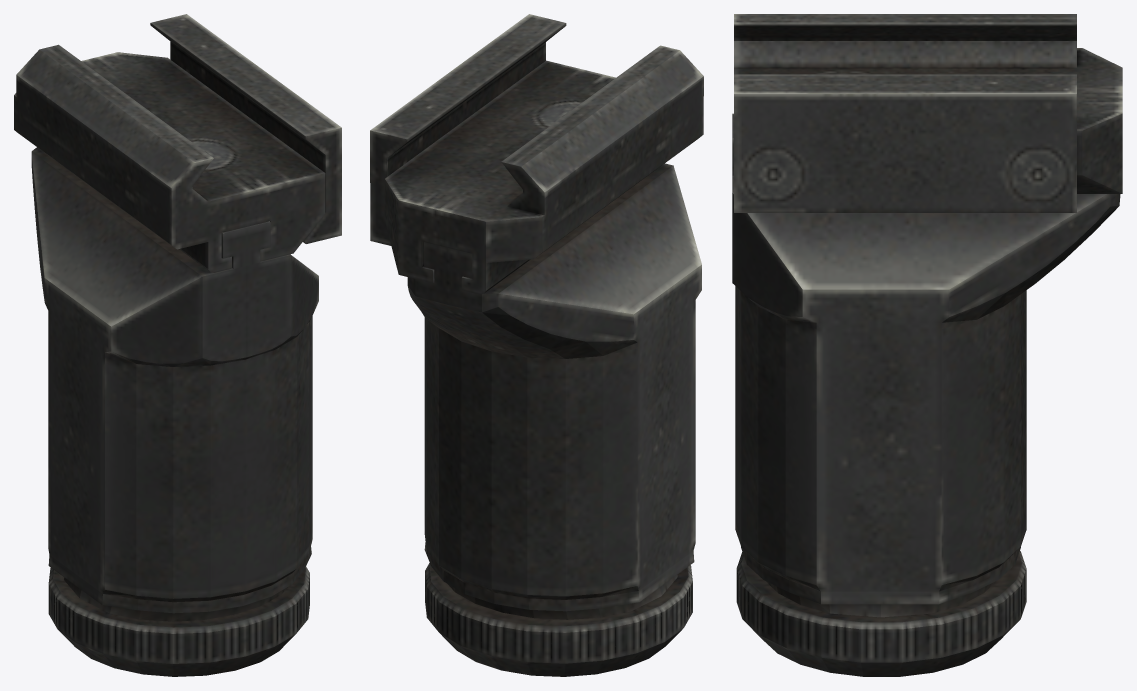
The picture shows the model from 3 angles, left to right: view 1: azimuth 30°, elevation 25°; view 2: azimuth 150°, elevation 25°; view 3: azimuth 270°, elevation 25°; orthographic projection. The views are drawn at different scales.
Parts seen in each view (by area): view 1: TW_5c1bc5fb2e221602b1779b32_PZ_Import; view 2: TW_5c1bc5fb2e221602b1779b32_PZ_Import; view 3: TW_5c1bc5fb2e221602b1779b32_PZ_Import.
Part boxes in pixels (<box>): TW_5c1bc5fb2e221602b1779b32_PZ_Import: <box>14,14,341,676</box>; TW_5c1bc5fb2e221602b1779b32_PZ_Import: <box>370,14,703,676</box>; TW_5c1bc5fb2e221602b1779b32_PZ_Import: <box>732,14,1122,676</box>.
Size of the model in its own units: 0.0204 by 0.0278 by 0.0458.
1 material, 1 textured.
